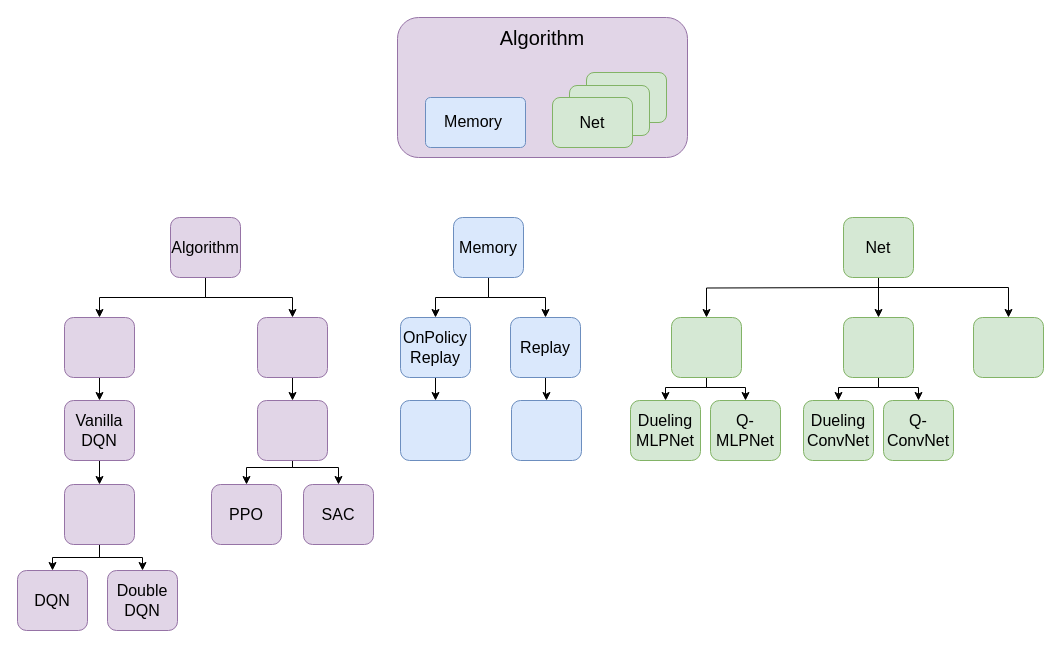
Image size: 1061x648. Some labels were removed from this diagram. The centre of each missing label's shape, as x and y in pixels:
"Actor-Critic" goes at (292,430).
"ConvNet" goes at (878,347).
"DQN-Base" goes at (99,514).
"MLPNet" goes at (706,347).
"OnPolicy Batch Replay" goes at (435,430).
"Prioritized Replay" goes at (546,430).
"Recurrent Net" goes at (1008,347).
"Reinforce" goes at (292,347).
"SARSA" goes at (99,347).
